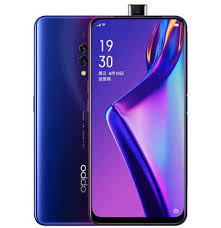oppo: (86, 13, 190, 227), (32, 13, 91, 225)
